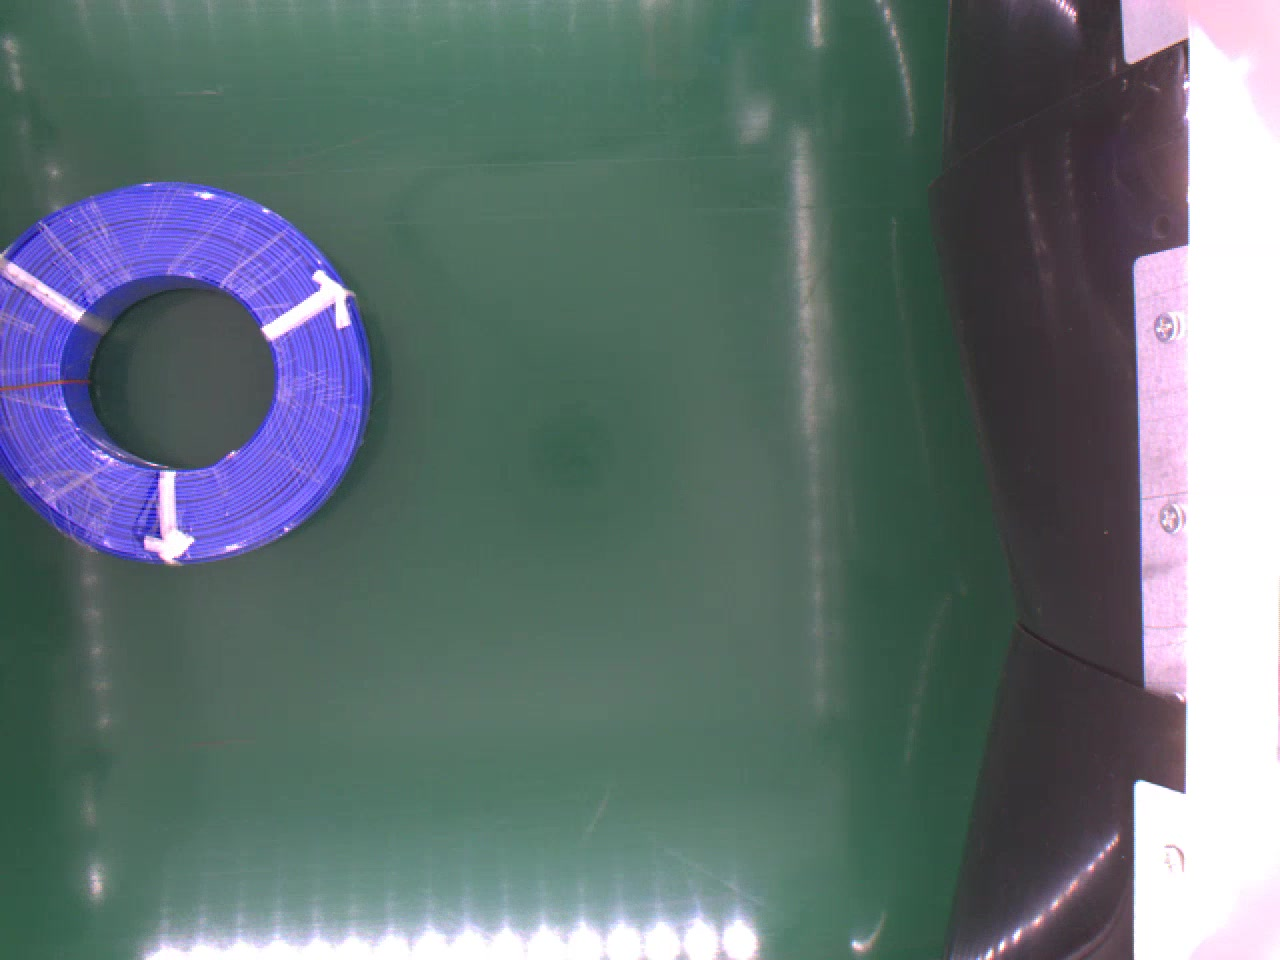blue: (0, 177, 371, 559)
